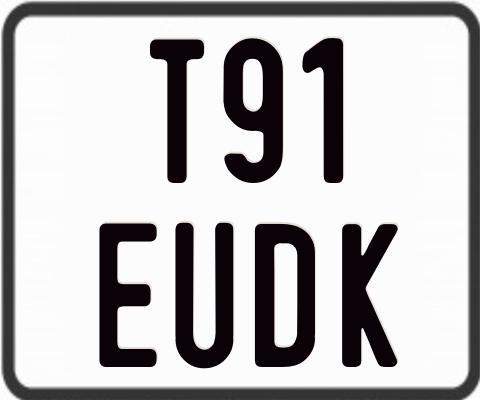1: (300, 35, 347, 185)
9: (220, 36, 280, 184)
D: (253, 222, 317, 371)
E: (97, 222, 159, 369)
K: (339, 222, 396, 370)
T: (148, 38, 207, 184)
U: (174, 222, 236, 370)
